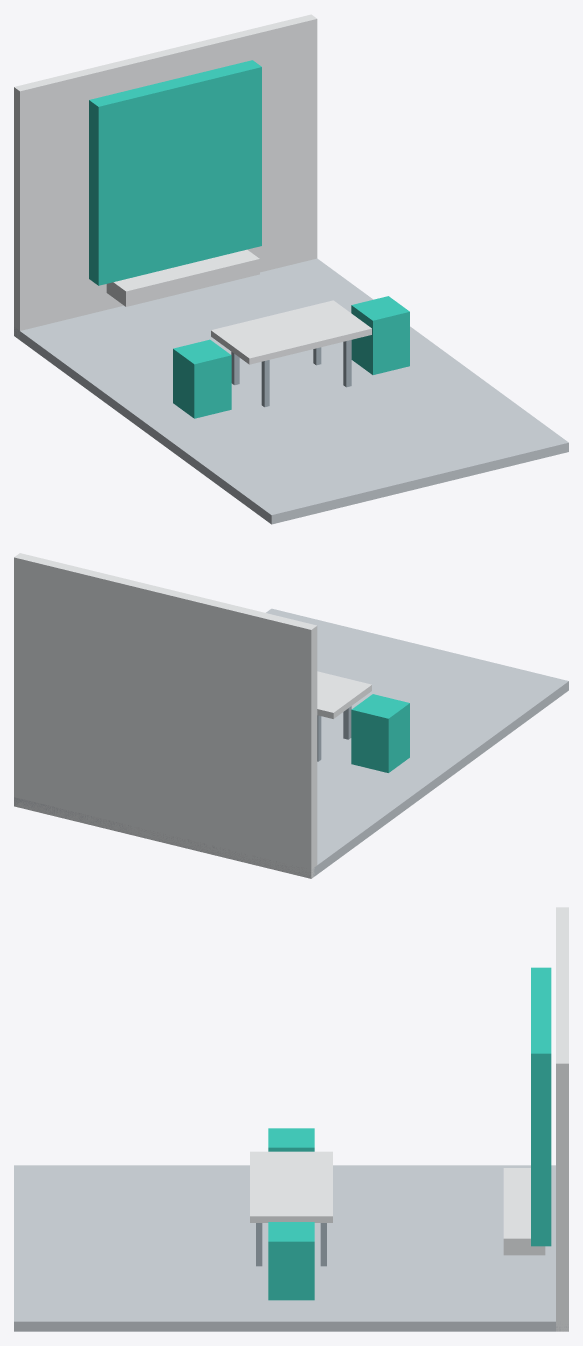
3 renders of one model, top to bottom at view 1: azimuth 30°, elevation 25°; view 2: azimuth 150°, elevation 25°; view 3: azimuth 270°, elevation 25°, orthographic. The views are drawn at different scales.
Parts seen in each view (by area): view 1: Exhibition Booth Concept; view 2: Exhibition Booth Concept; view 3: Exhibition Booth Concept.
Part boxes in pixels (<box>): Exhibition Booth Concept: <box>14,14,568,524</box>; Exhibition Booth Concept: <box>14,553,568,878</box>; Exhibition Booth Concept: <box>14,907,568,1331</box>.
Size of the model in its own units: 4 by 3.2 by 6.
